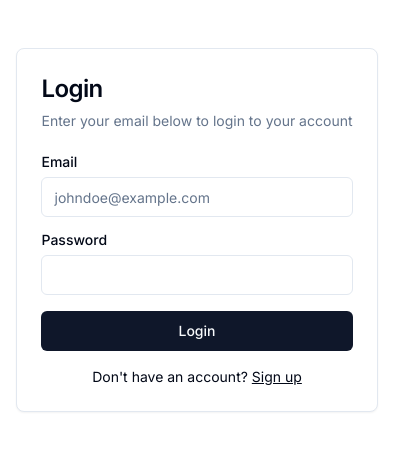
Test case: Sign In Form › should show validation errors on empty fields
# Click the submit button without filling out the form
Click the submit button at (198, 331), box [42,311,353,351]
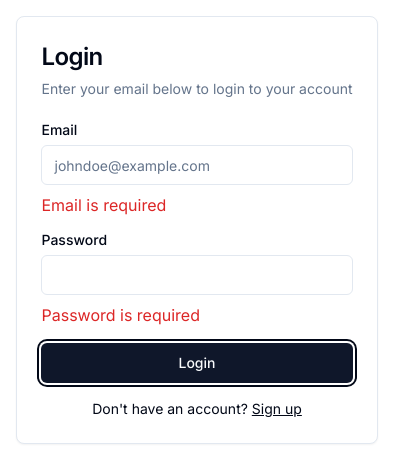
Expected: the text "Email is required" is shown, [42,195,166,215]
Expected: the text "Password is required" is shown, [42,305,200,325]
